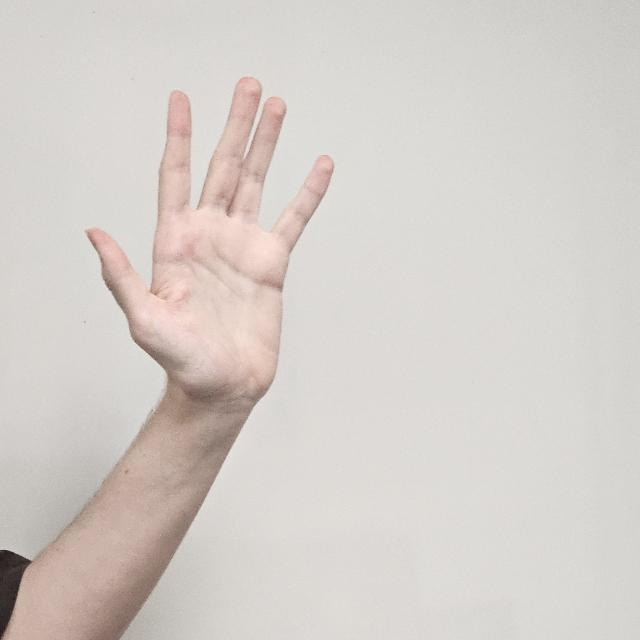X: (87, 77, 336, 433)
